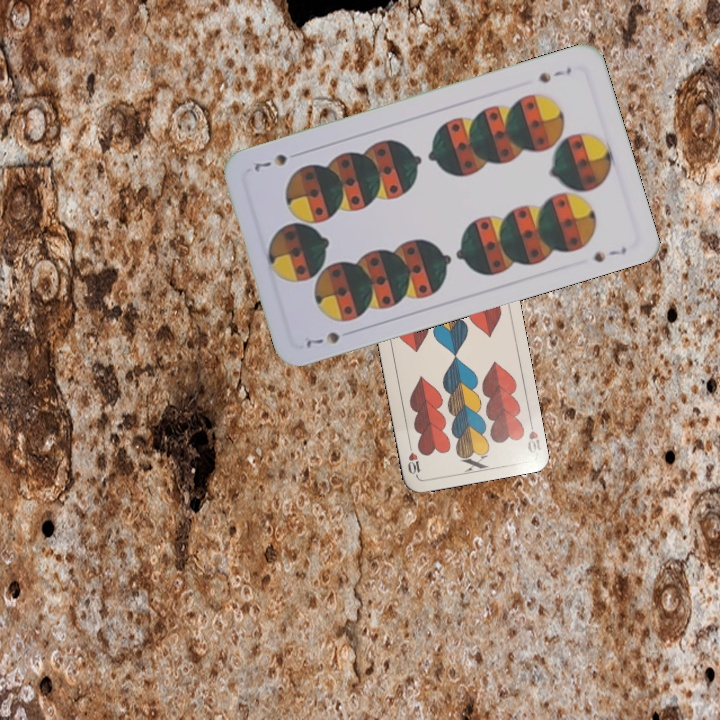H10: (523, 415, 543, 456)
S7: (302, 327, 343, 350), (534, 63, 574, 86)
